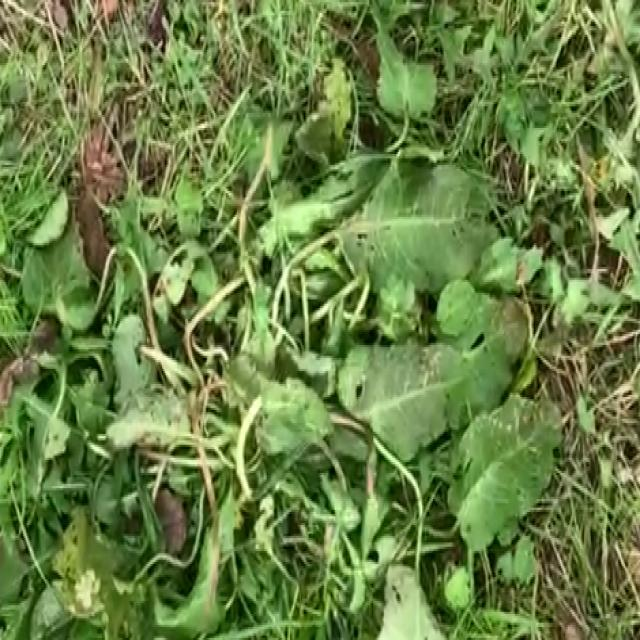organic waste: (1, 71, 579, 640)
